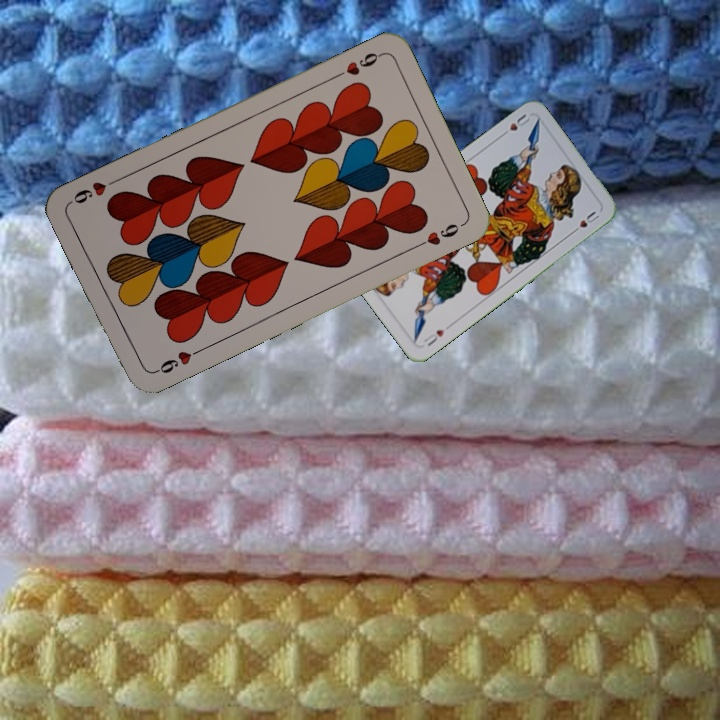H9: (330, 48, 385, 82), (149, 344, 204, 377)
HU: (497, 109, 533, 139), (420, 321, 453, 349)
